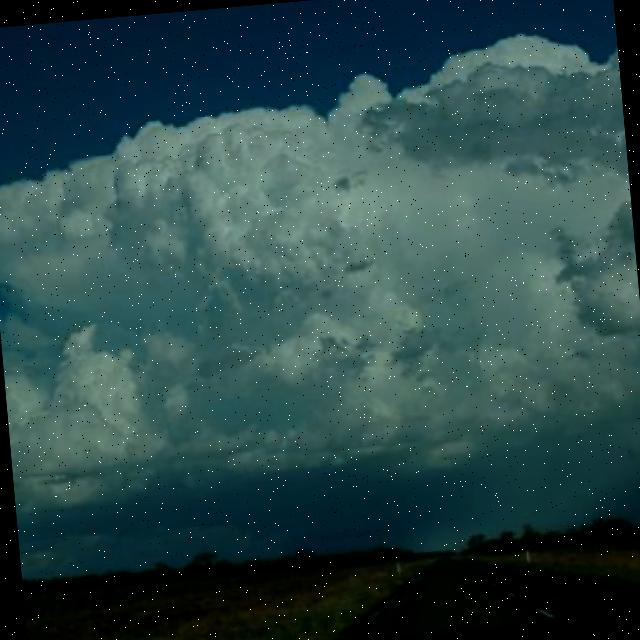Cb: (1, 27, 640, 498)
